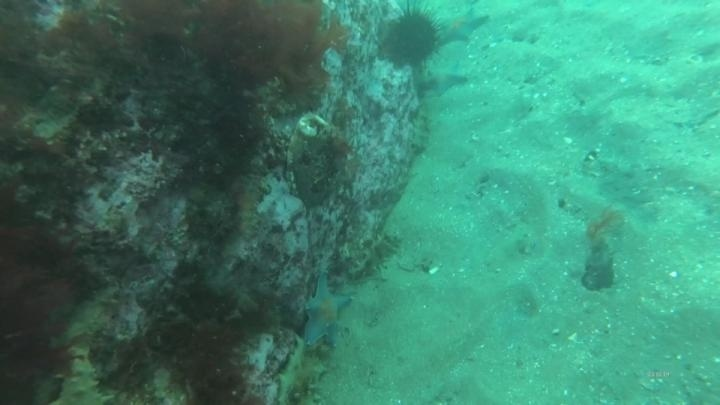echinus: (377, 3, 445, 70)
holothurian: (273, 334, 333, 404), (53, 345, 110, 404), (348, 227, 403, 282), (405, 99, 435, 160)
starfish: (298, 273, 356, 351), (434, 4, 491, 47), (420, 56, 470, 98)
